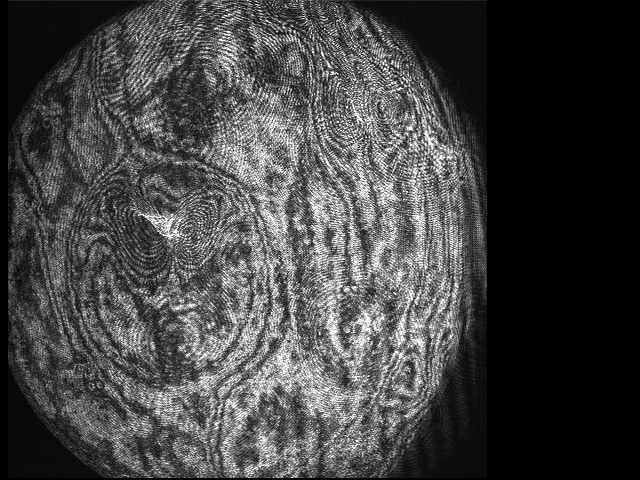plume: (99, 185, 236, 284)
